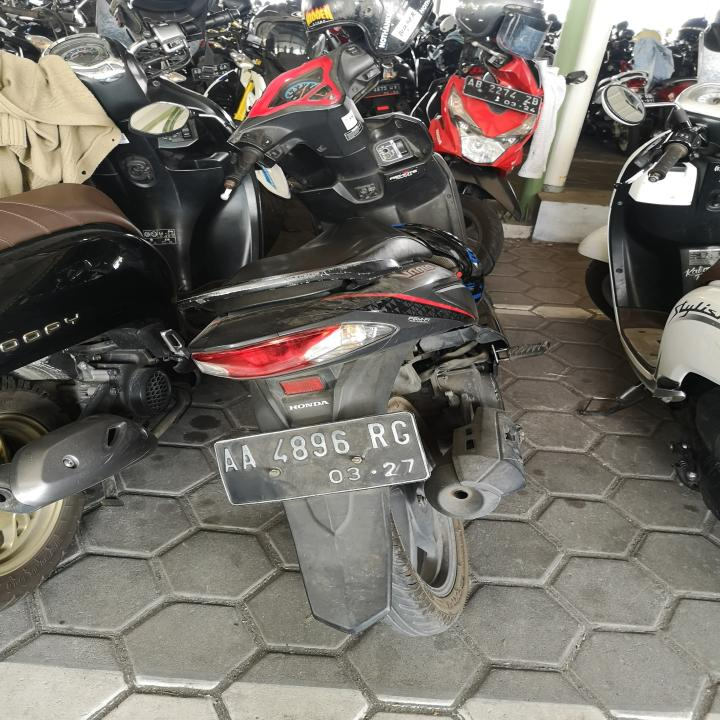plate: (211, 408, 434, 507), (461, 74, 543, 117)
